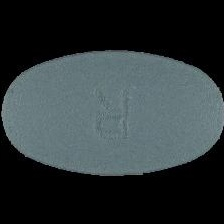55111-172: (0, 0, 224, 224)
